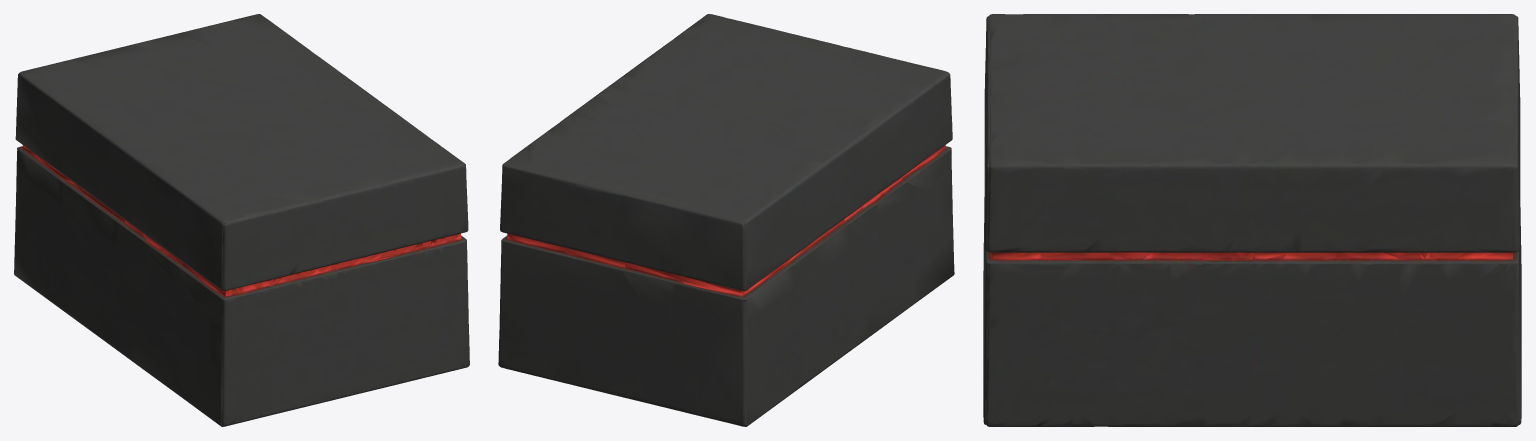
The model's file is paso-2.glb.
3 views of the same model, side by side, from view 1: azimuth 30°, elevation 25°; view 2: azimuth 150°, elevation 25°; view 3: azimuth 270°, elevation 25° (orthographic). The views are drawn at different scales.
Parts seen in each view (by area): view 1: tripo_node_5b45659d-6b58-4470-a1f1-47b9588ae9a6; view 2: tripo_node_5b45659d-6b58-4470-a1f1-47b9588ae9a6; view 3: tripo_node_5b45659d-6b58-4470-a1f1-47b9588ae9a6.
Boxes of the visible parts, bbox=[...] form: tripo_node_5b45659d-6b58-4470-a1f1-47b9588ae9a6: bbox=[14, 14, 469, 426]; tripo_node_5b45659d-6b58-4470-a1f1-47b9588ae9a6: bbox=[498, 14, 954, 426]; tripo_node_5b45659d-6b58-4470-a1f1-47b9588ae9a6: bbox=[983, 14, 1521, 426].
Bounding box in the file's own units: 0.6852 × 0.536 × 0.9999.
1 material, 1 textured.
